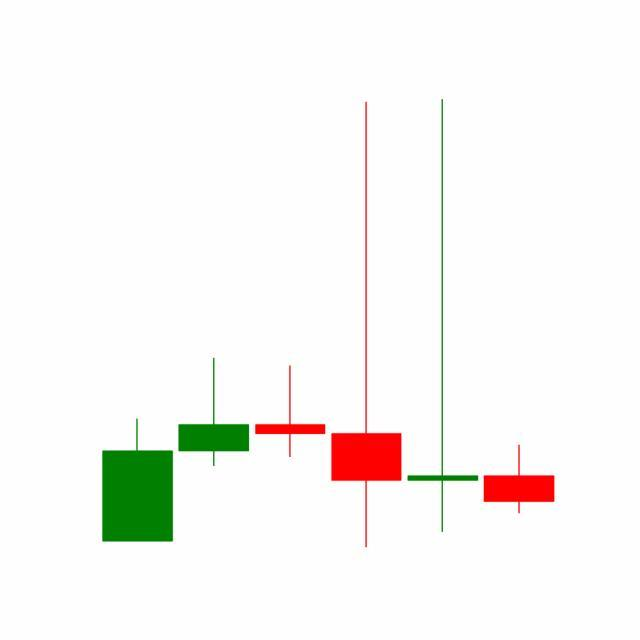Spinning Top: (404, 95, 482, 538)
